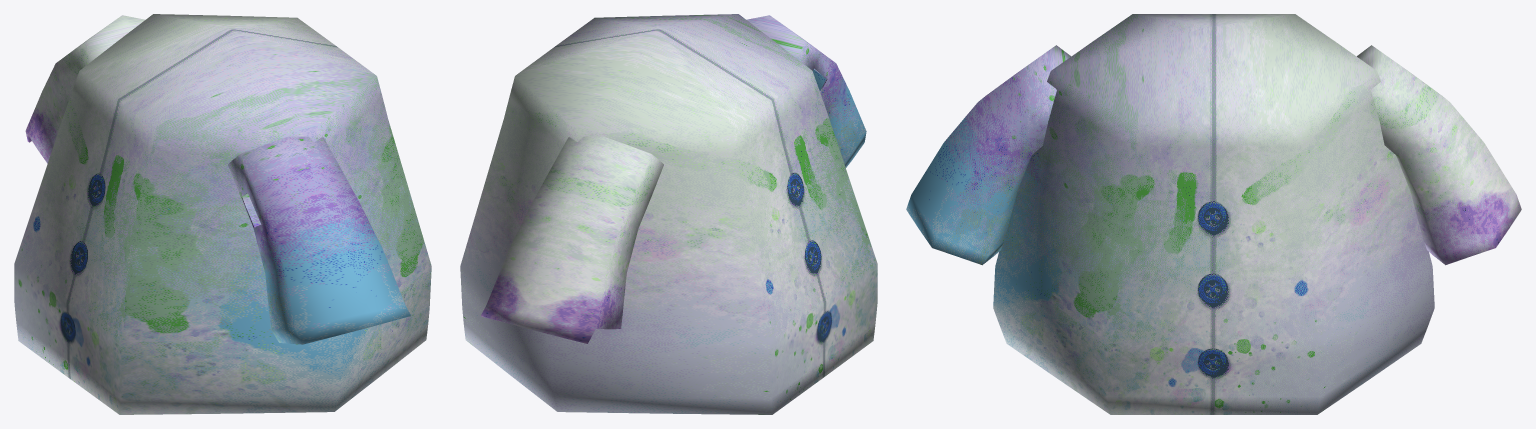
The model's file is Smock.glb.
The picture shows the model from 3 angles, left to right: view 1: azimuth 30°, elevation 25°; view 2: azimuth 150°, elevation 25°; view 3: azimuth 270°, elevation 25°; orthographic projection. The views are drawn at different scales.
Visible parts, largest first — view 1: Smock; view 2: Smock; view 3: Smock.
Part boxes in pixels (x1,y1,x2,y2): Smock: (14, 14, 431, 414); Smock: (460, 14, 877, 414); Smock: (906, 14, 1521, 414).
Bounding box in the file's own units: 1.46 × 1.48 × 2.45.
1 material, 1 textured.
